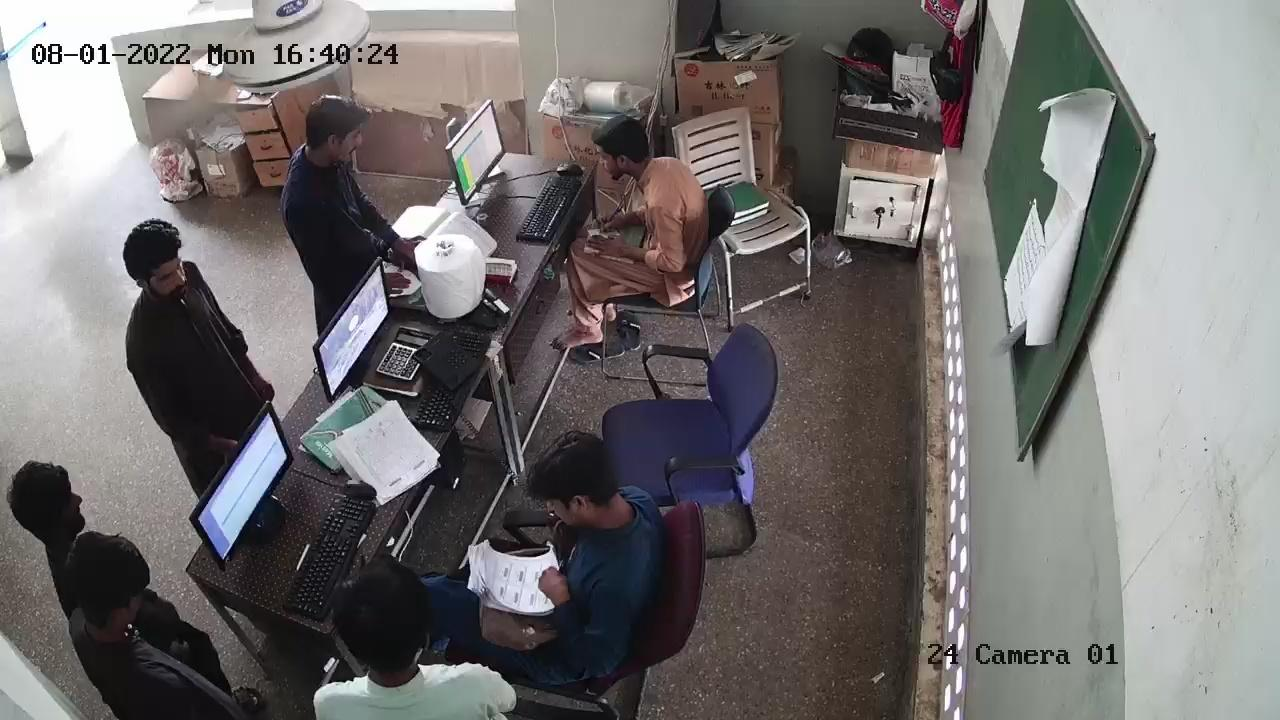person: (497, 428, 646, 660), (112, 233, 262, 445), (309, 570, 497, 717), (577, 103, 709, 285), (59, 537, 175, 682), (294, 93, 374, 290), (4, 465, 110, 552)
